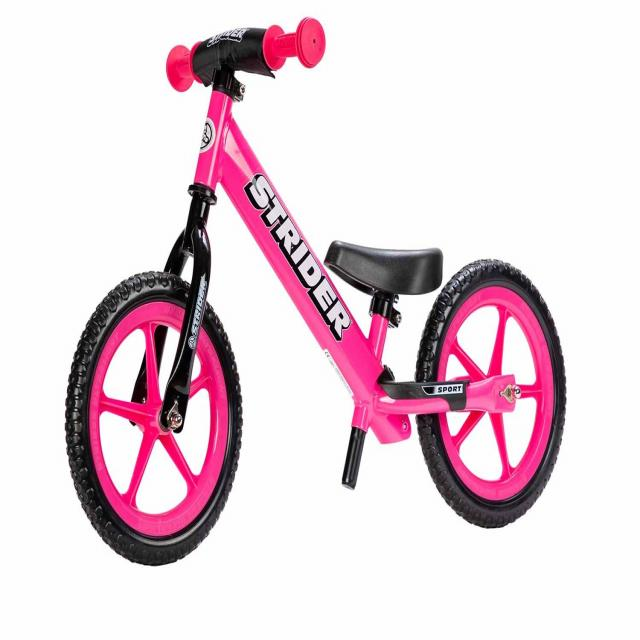bicycle: (58, 11, 581, 579)
